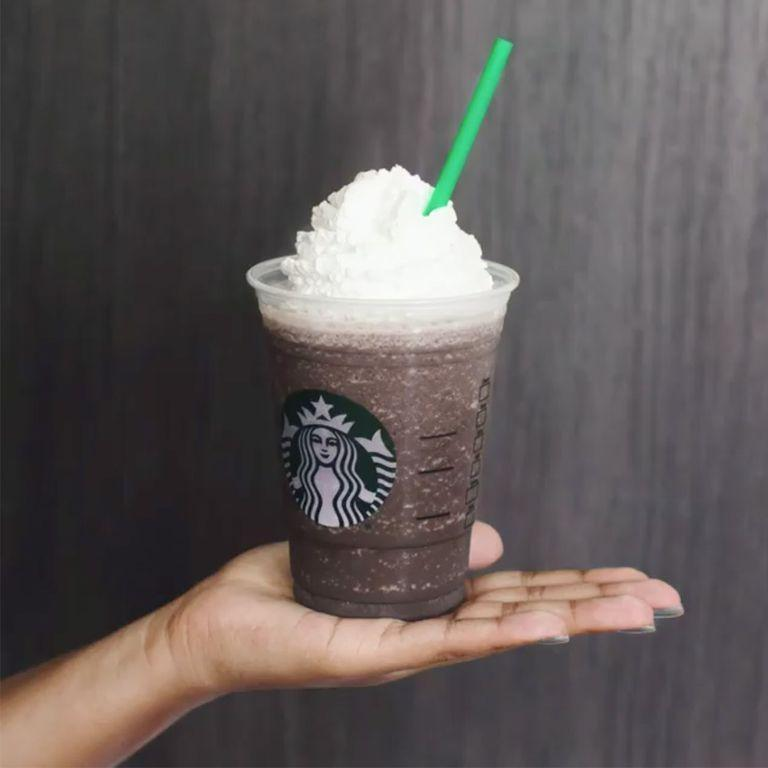cup-disposable: (247, 195, 523, 626)
